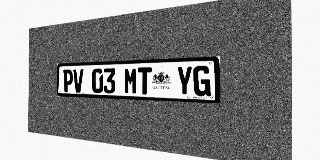0: (92, 68, 103, 93)
3: (103, 68, 115, 93)
G: (193, 65, 211, 96)
M: (124, 67, 137, 94)
P: (63, 69, 73, 92)
T: (138, 67, 152, 95)
V: (73, 69, 83, 93)
Y: (176, 66, 193, 96)
